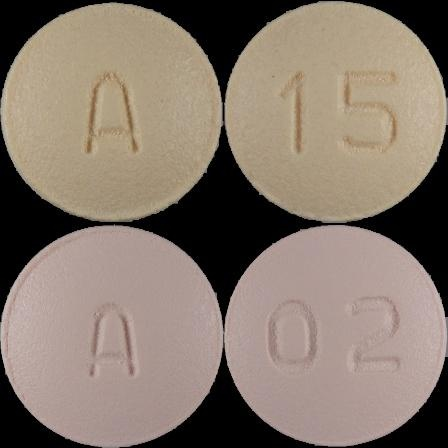65862-050: (0, 0, 224, 224)
